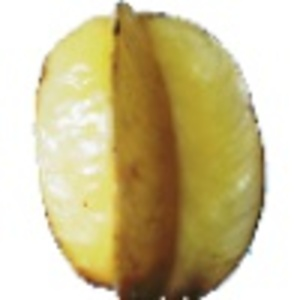carambola: (32, 1, 270, 300)
